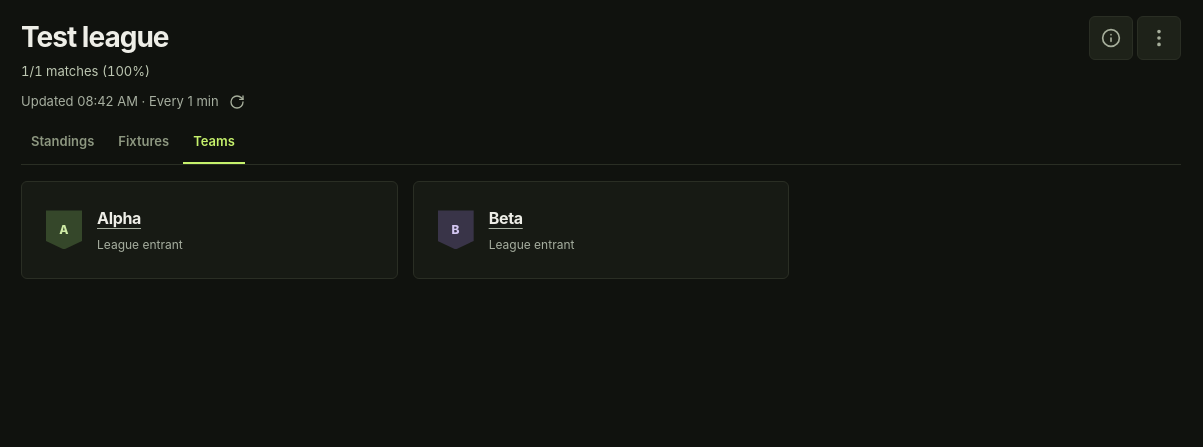
Test case: teams team names link to all that team's fixtures and reset restrictive filters
Click the link with aria-label "View fixtures for Alpha": point(119, 218) [97, 208, 141, 228]
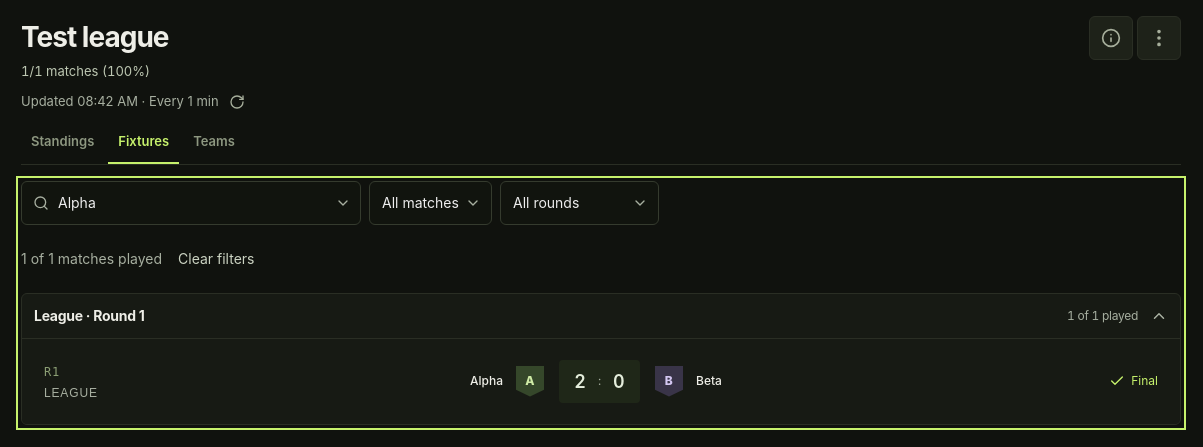
Now the dropdown named "Filter by team" holds "Alpha", box [21, 181, 361, 225]
Now the dropdown named "Filter fixture status" shows "All matches", box [369, 181, 492, 225]
Now the dropdown named "Filter by round" shows "All rounds", box [500, 181, 659, 225]
